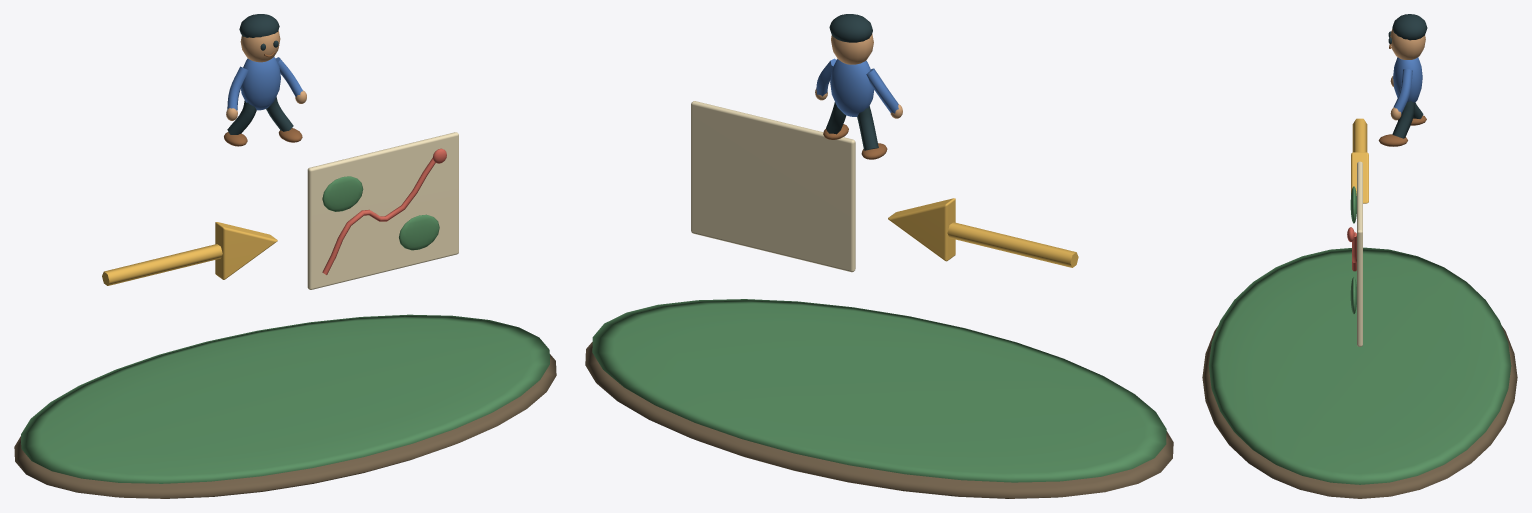
The model's file is complete-third-directed-tour.glb.
The picture shows the model from 3 angles, left to right: view 1: azimuth 30°, elevation 25°; view 2: azimuth 150°, elevation 25°; view 3: azimuth 270°, elevation 25°; orthographic projection. The views are drawn at different scales.
Visible parts, largest first — view 1: complete-third-directed-tour_surface_01, complete-third-directed-tour_surface_03, complete-third-directed-tour_surface_00, complete-third-directed-tour_surface_02, complete-third-directed-tour_surface_08, complete-third-directed-tour_surface_06, complete-third-directed-tour_surface_04, complete-third-directed-tour_surface_05; view 2: complete-third-directed-tour_surface_01, complete-third-directed-tour_surface_03, complete-third-directed-tour_surface_00, complete-third-directed-tour_surface_02, complete-third-directed-tour_surface_08, complete-third-directed-tour_surface_06, complete-third-directed-tour_surface_05; view 3: complete-third-directed-tour_surface_01, complete-third-directed-tour_surface_00, complete-third-directed-tour_surface_06, complete-third-directed-tour_surface_08, complete-third-directed-tour_surface_02, complete-third-directed-tour_surface_03, complete-third-directed-tour_surface_05, complete-third-directed-tour_surface_07.
Boxes of the visible parts, x1,y1,x2,y2 form: complete-third-directed-tour_surface_01: (21,176,549,483); complete-third-directed-tour_surface_03: (307,132,458,289); complete-third-directed-tour_surface_00: (14,354,556,498); complete-third-directed-tour_surface_02: (102,222,277,285); complete-third-directed-tour_surface_08: (227,57,302,110); complete-third-directed-tour_surface_06: (227,14,293,134); complete-third-directed-tour_surface_04: (322,148,446,274); complete-third-directed-tour_surface_05: (226,30,306,120); complete-third-directed-tour_surface_01: (592,299,1166,482); complete-third-directed-tour_surface_03: (691,101,855,272); complete-third-directed-tour_surface_00: (585,342,1173,498); complete-third-directed-tour_surface_02: (888,198,1078,267); complete-third-directed-tour_surface_08: (816,58,898,116); complete-third-directed-tour_surface_06: (826,14,878,150); complete-third-directed-tour_surface_05: (815,34,902,118); complete-third-directed-tour_surface_01: (1208,186,1511,484); complete-third-directed-tour_surface_00: (1202,326,1517,498); complete-third-directed-tour_surface_06: (1388,14,1427,138); complete-third-directed-tour_surface_08: (1393,57,1422,113); complete-third-directed-tour_surface_02: (1351,118,1368,203); complete-third-directed-tour_surface_03: (1357,161,1362,346); complete-third-directed-tour_surface_05: (1390,29,1425,120); complete-third-directed-tour_surface_07: (1378,44,1426,146).
Bounding box in the file's own units: 4.56 × 3.29 × 2.5.
